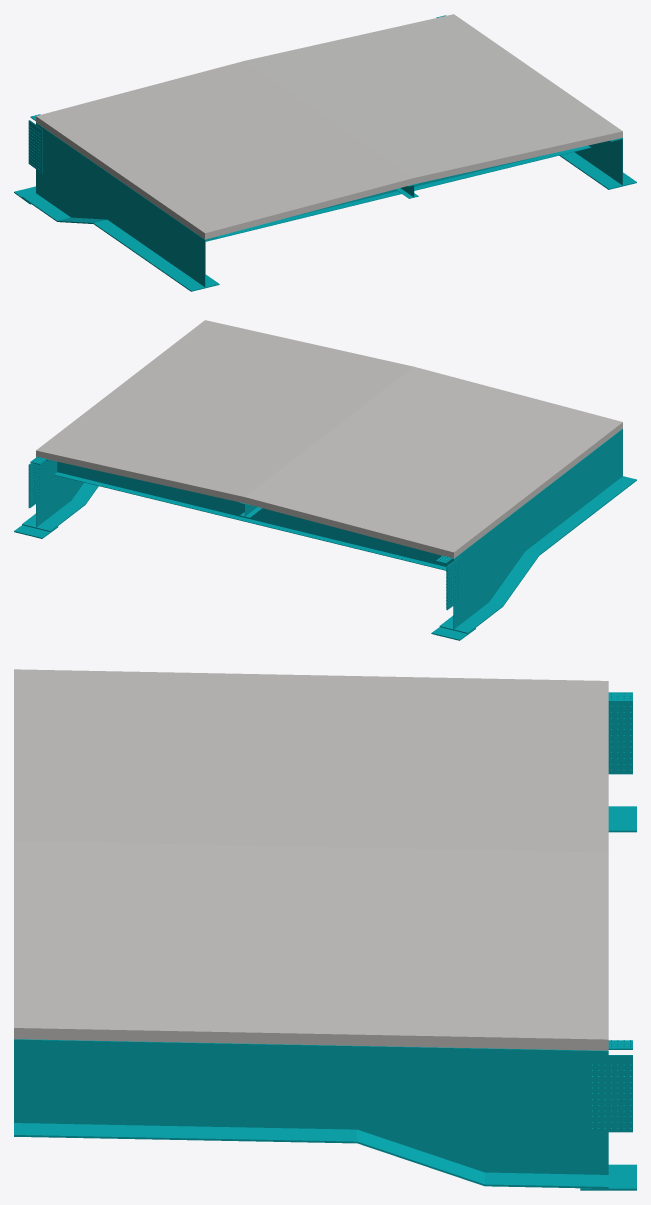
File: DECK_SS07.glb
3 views of the same model, one above another, from view 1: azimuth 30°, elevation 25°; view 2: azimuth 150°, elevation 25°; view 3: azimuth 270°, elevation 25° (orthographic). The views are drawn at different scales.
Parts seen in each view (by area): view 1: SS07_Slab_15, SS07_G_W_0, SS07_G_E_1, SS07_FB_bf_14, SS07_SpliceW_17, SS07_FB_web_11; view 2: SS07_Slab_15, SS07_G_W_0, SS07_FB_web_3, SS07_G_E_1, SS07_FB_bf_6, SS07_SpliceW_17, SS07_SpliceW_25; view 3: SS07_Slab_15, SS07_G_E_1, SS07_SpliceW_26, SS07_SpliceW_18, SS07_SpliceB_27, SS07_SpliceB_19.
Part boxes in pixels (x1,y1,x2,y2): SS07_Slab_15: (36,14,622,239); SS07_G_W_0: (22,123,219,291); SS07_G_E_1: (559,138,636,189); SS07_FB_bf_14: (205,145,590,241); SS07_SpliceW_17: (28,120,42,173); SS07_FB_web_11: (286,155,543,218); SS07_Slab_15: (36,320,622,558); SS07_G_W_0: (439,429,636,633); SS07_FB_web_3: (57,461,453,566); SS07_G_E_1: (22,457,98,531); SS07_FB_bf_6: (54,472,446,570); SS07_SpliceW_17: (447,557,461,610); SS07_SpliceW_25: (29,462,43,507); SS07_Slab_15: (14,669,608,1050); SS07_G_E_1: (14,1039,608,1188); SS07_SpliceW_26: (584,1056,632,1132); SS07_SpliceW_18: (608,702,632,774); SS07_SpliceB_27: (580,1164,636,1190); SS07_SpliceB_19: (608,806,636,832).
Bounding box in the file's own units: 18.26 × 3.55 × 12.57.
